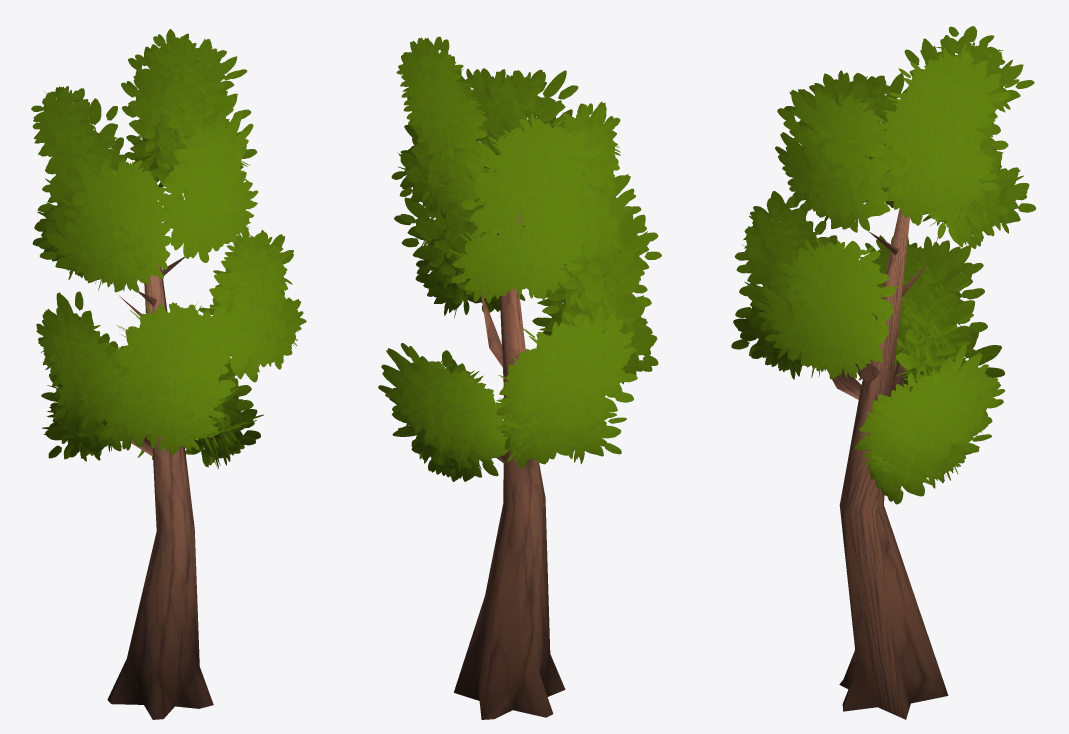
The model's file is CommonTree_3.low.gltf.
3 renders of one model, left to right at view 1: azimuth 30°, elevation 25°; view 2: azimuth 150°, elevation 25°; view 3: azimuth 270°, elevation 25°, orthographic. The views are drawn at different scales.
Visible parts, largest first — view 1: CommonTree_3; view 2: CommonTree_3; view 3: CommonTree_3.
Part boxes in pixels (<box>): CommonTree_3: <box>31,29,306,719</box>; CommonTree_3: <box>378,36,661,719</box>; CommonTree_3: <box>731,26,1035,719</box>.
Size of the model in its own units: 4.06 by 9.43 by 4.24.
2 materials, 2 textured.
